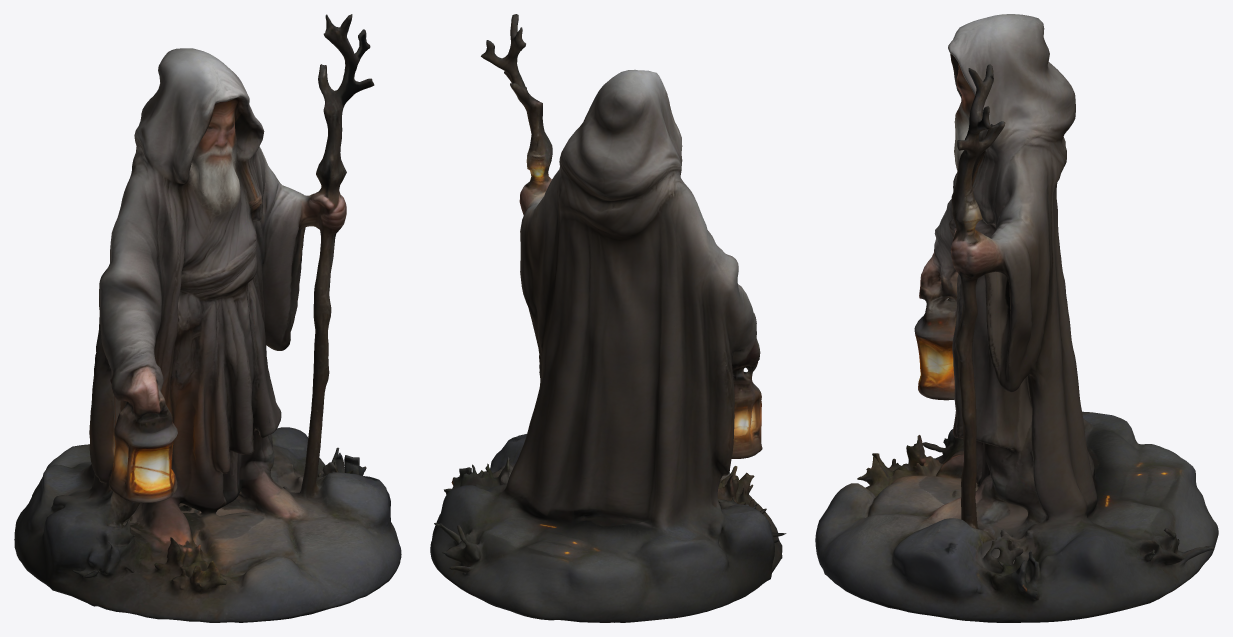
Rendered from hermit.glb.
3 renders of one model, left to right at view 1: azimuth 30°, elevation 25°; view 2: azimuth 150°, elevation 25°; view 3: azimuth 270°, elevation 25°, orthographic. The views are drawn at different scales.
Size of the model in its own units: 1.33 by 2 by 1.36.
1 material, 1 textured.
